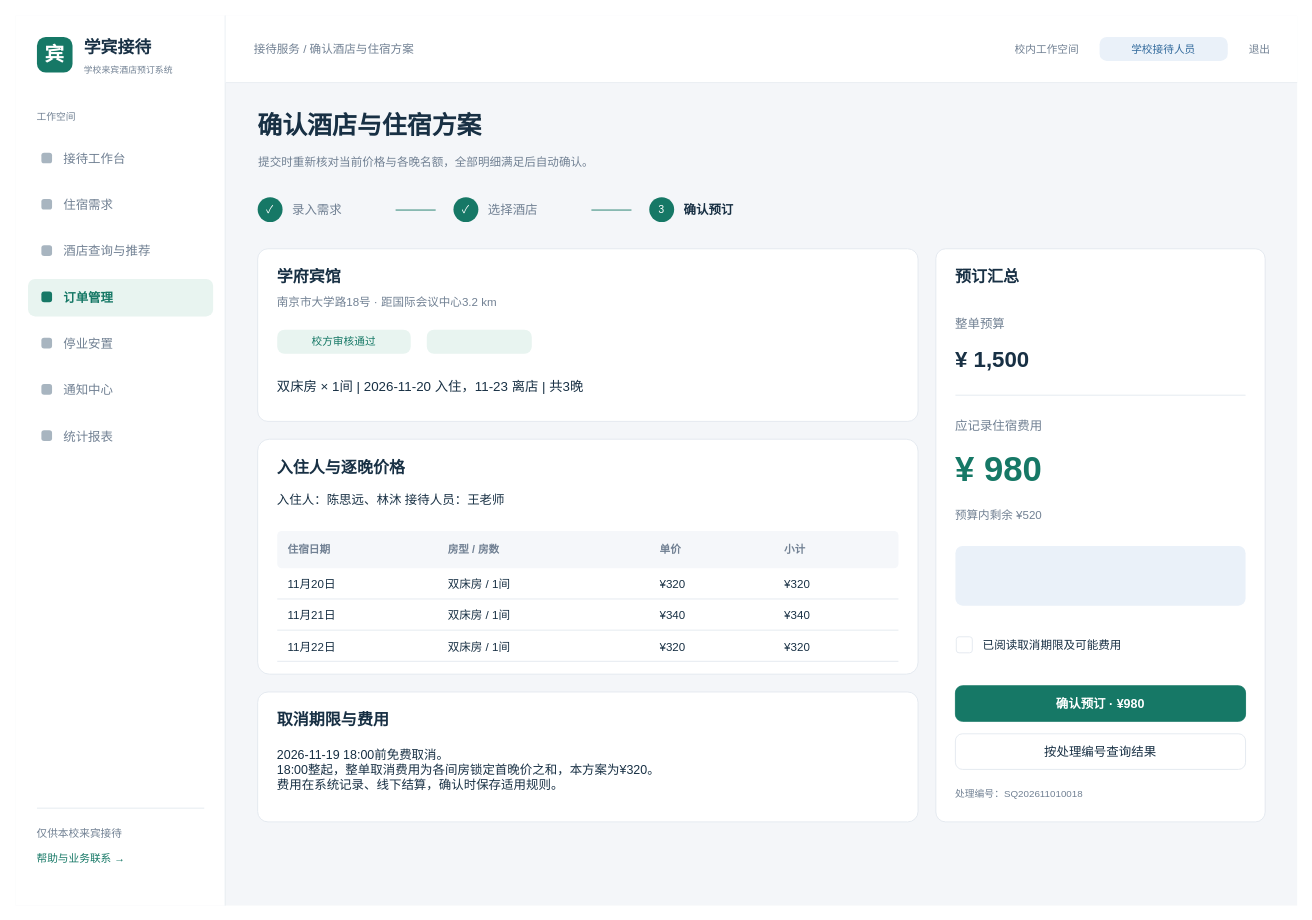
Some shapes in this 1312 by 920 pixel diagram are drawn without their labels. The box of each missing label's shape, as (x1, y1, x2, y2) in pixels:
全部住宿晚名额将重新复核， 任何明细不足均整单不成立。: (955, 546, 1245, 605)
评价92分: (426, 329, 531, 353)
